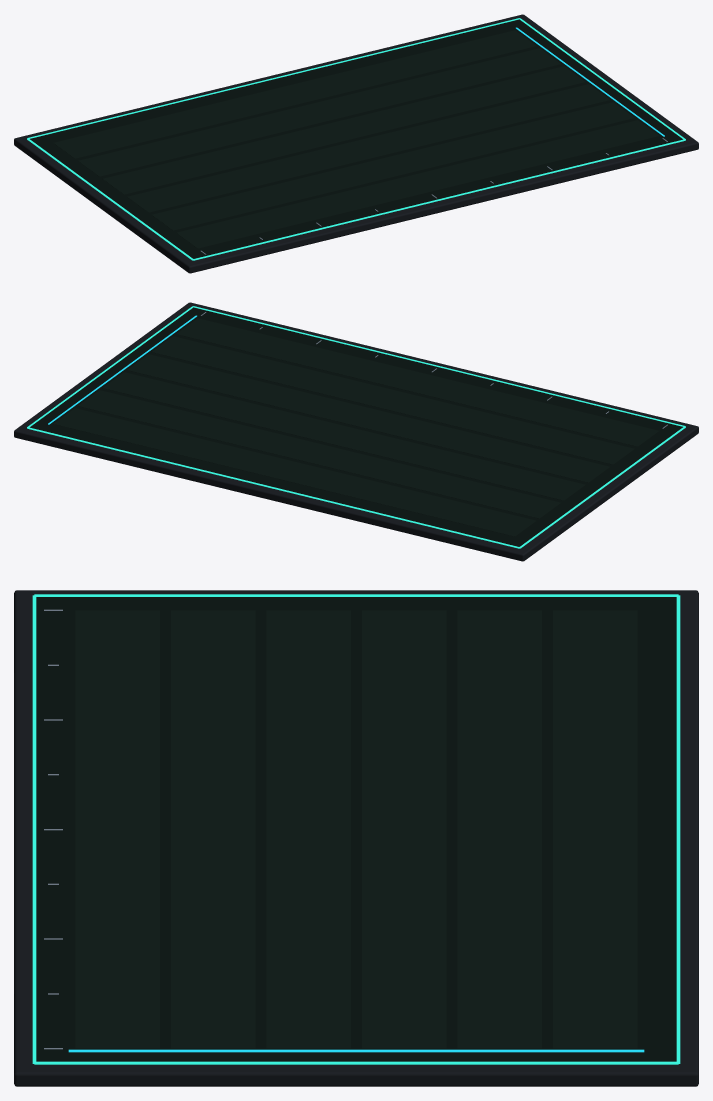
File: relief.glb
The picture shows the model from 3 angles, top to bottom: view 1: azimuth 30°, elevation 25°; view 2: azimuth 150°, elevation 25°; view 3: azimuth 270°, elevation 25°; orthographic projection. The views are drawn at different scales.
Parts seen in each view (by area): view 1: Relief_Ground, Relief_Plate, Relief_Lane_3, Relief_Lane_1, Relief_Lane_2, Relief_Lane_5, Relief_Lane_0, Relief_Lane_4, Relief_Edge; view 2: Relief_Ground, Relief_Plate, Relief_Lane_2, Relief_Lane_0, Relief_Lane_3, Relief_Lane_4, Relief_Lane_1, Relief_Lane_5, Relief_Edge; view 3: Relief_Ground, Relief_Lane_0, Relief_Lane_1, Relief_Lane_2, Relief_Lane_3, Relief_Lane_4, Relief_Lane_5, Relief_Plate, Relief_Edge, Relief_Now.
Part boxes in pixels (box(x1,y1,x2,y2)): Relief_Ground: box(30, 19, 682, 258); Relief_Plate: box(14, 14, 698, 273); Relief_Lane_3: box(102, 66, 585, 194); Relief_Lane_1: box(152, 102, 634, 230); Relief_Lane_2: box(127, 84, 610, 212); Relief_Lane_5: box(53, 30, 536, 158); Relief_Lane_0: box(176, 120, 658, 248); Relief_Lane_4: box(78, 48, 560, 176); Relief_Edge: box(27, 18, 685, 260); Relief_Ground: box(30, 307, 682, 546); Relief_Plate: box(14, 302, 698, 561); Relief_Lane_2: box(127, 354, 610, 482); Relief_Lane_0: box(176, 318, 659, 446); Relief_Lane_3: box(102, 372, 585, 500); Relief_Lane_4: box(78, 390, 560, 518); Relief_Lane_1: box(152, 336, 634, 464); Relief_Lane_5: box(54, 408, 536, 536); Relief_Edge: box(27, 306, 685, 548); Relief_Ground: box(36, 597, 676, 1061); Relief_Lane_0: box(75, 610, 159, 1048); Relief_Lane_1: box(171, 610, 255, 1048); Relief_Lane_2: box(266, 610, 350, 1048); Relief_Lane_3: box(362, 610, 446, 1048); Relief_Lane_4: box(457, 610, 541, 1048); Relief_Lane_5: box(553, 610, 637, 1048); Relief_Plate: box(14, 590, 698, 1086); Relief_Edge: box(32, 594, 680, 1064); Relief_Now: box(68, 1049, 644, 1052).
Size of the model in its own units: 8.4 by 0.142 by 5.02.
